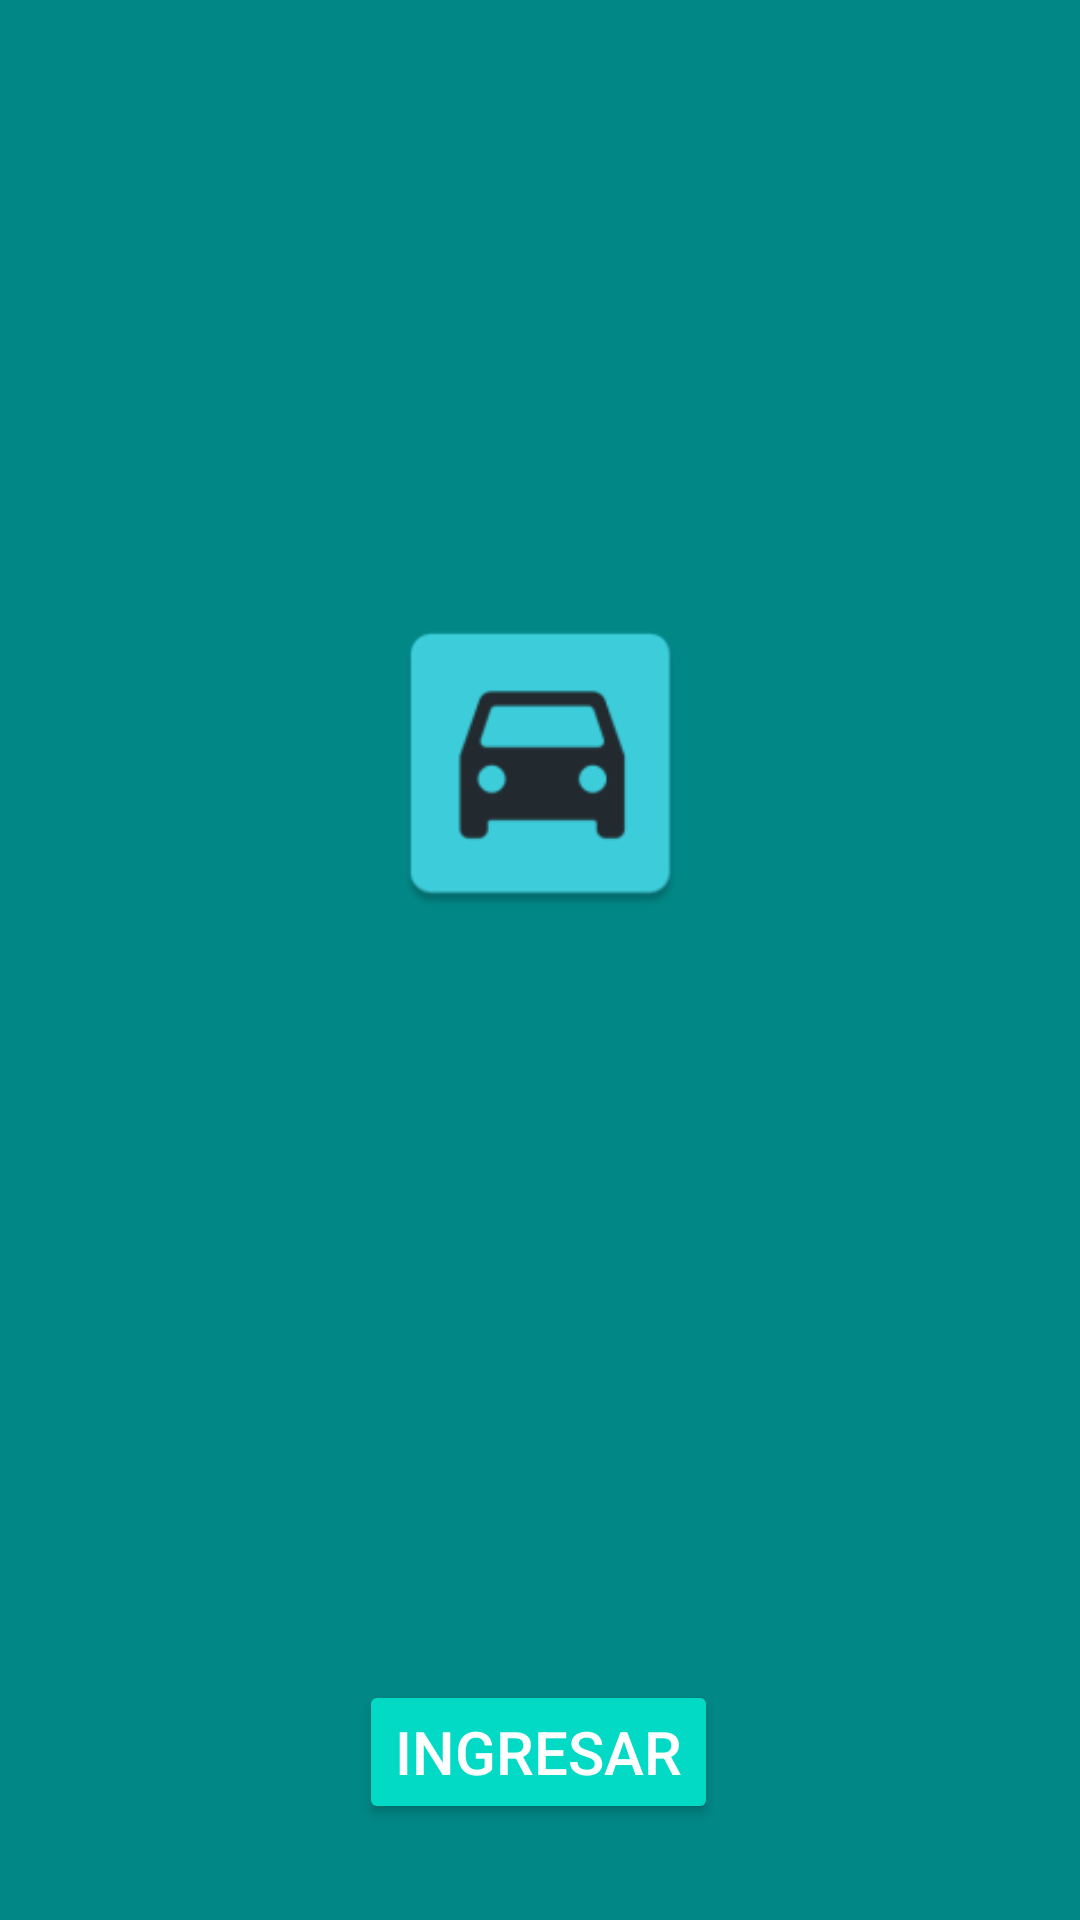

Icons on this 1080x1920 Android screen, each with the point to tap as (x=x, y=y):
carro: (x=540, y=765)
